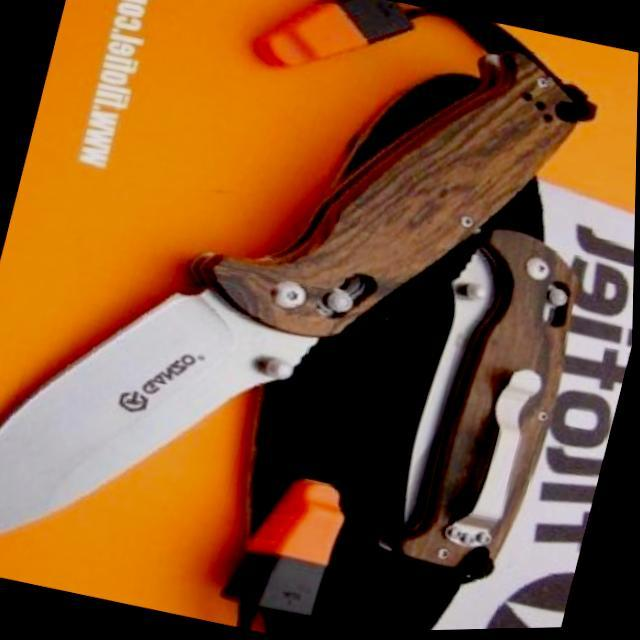knife: (0, 0, 593, 640), (389, 222, 595, 578)
